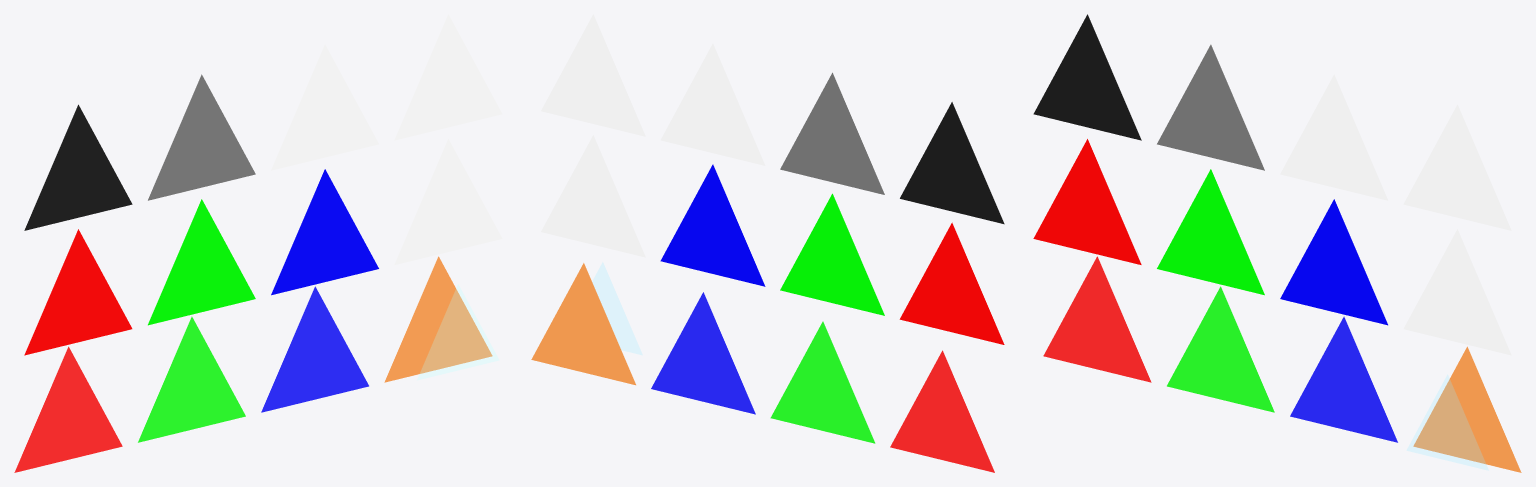
File: color_volume_transparency.gltf
3 views of the same model, side by side, from view 1: azimuth 30°, elevation 25°; view 2: azimuth 150°, elevation 25°; view 3: azimuth 330°, elevation 25° (orthographic). The views are drawn at different scales.
Visible parts, largest first — view 1: near_black, neutral_1, neutral_8, neutral_018, source_red, warm_highlight, source_green, source_blue, source_white, gamut_green, gamut_blue, gamut_red (+1 smaller); view 2: source_green, near_black, gamut_green, neutral_1, source_white, warm_highlight, source_red, gamut_red, neutral_8, source_blue, gamut_blue, neutral_018 (+1 smaller); view 3: near_black, neutral_018, neutral_8, neutral_1, source_white, gamut_red, source_green, source_blue, source_red, gamut_green, gamut_blue, warm_highlight (+1 smaller).
Part boxes in pixels (x1,y1,x2,y2): near_black: [24, 104, 132, 230]; neutral_1: [271, 44, 378, 170]; neutral_8: [394, 14, 502, 140]; neutral_018: [148, 74, 255, 200]; source_red: [24, 229, 132, 355]; warm_highlight: [384, 256, 492, 382]; source_green: [148, 199, 255, 325]; source_blue: [271, 169, 378, 295]; source_white: [394, 139, 502, 264]; gamut_green: [138, 316, 245, 442]; gamut_blue: [261, 286, 368, 412]; gamut_red: [14, 346, 122, 472]; source_green: [780, 193, 884, 315]; near_black: [900, 102, 1004, 224]; gamut_green: [770, 321, 875, 443]; neutral_1: [661, 43, 765, 165]; source_white: [541, 135, 645, 257]; warm_highlight: [531, 263, 635, 385]; source_red: [899, 222, 1004, 344]; gamut_red: [890, 350, 994, 472]; neutral_8: [541, 14, 645, 136]; source_blue: [660, 164, 765, 286]; gamut_blue: [651, 292, 755, 414]; neutral_018: [780, 72, 884, 194]; near_black: [1033, 14, 1141, 140]; neutral_018: [1157, 44, 1264, 170]; neutral_8: [1403, 104, 1511, 230]; neutral_1: [1280, 74, 1387, 200]; source_white: [1403, 229, 1511, 355]; gamut_red: [1043, 256, 1151, 382]; source_green: [1157, 169, 1264, 295]; source_blue: [1280, 199, 1387, 325]; source_red: [1033, 139, 1141, 264]; gamut_green: [1167, 286, 1274, 412]; gamut_blue: [1290, 316, 1397, 442]; warm_highlight: [1413, 346, 1521, 472].
Bounding box in the file's own units: 5.62 × 4.07 × 0.4.
